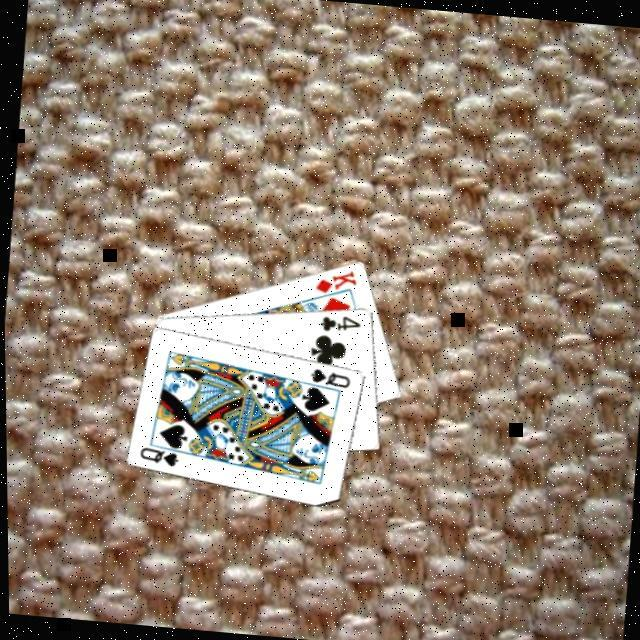4C: (313, 307, 361, 333)
KD: (308, 262, 357, 296)
QS: (132, 440, 180, 468), (303, 362, 351, 388)
